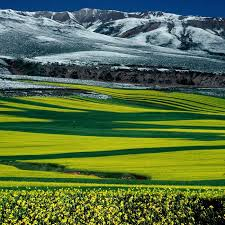field: (4, 94, 224, 188)
flower: (5, 187, 222, 225)
mountain: (2, 12, 224, 92)
